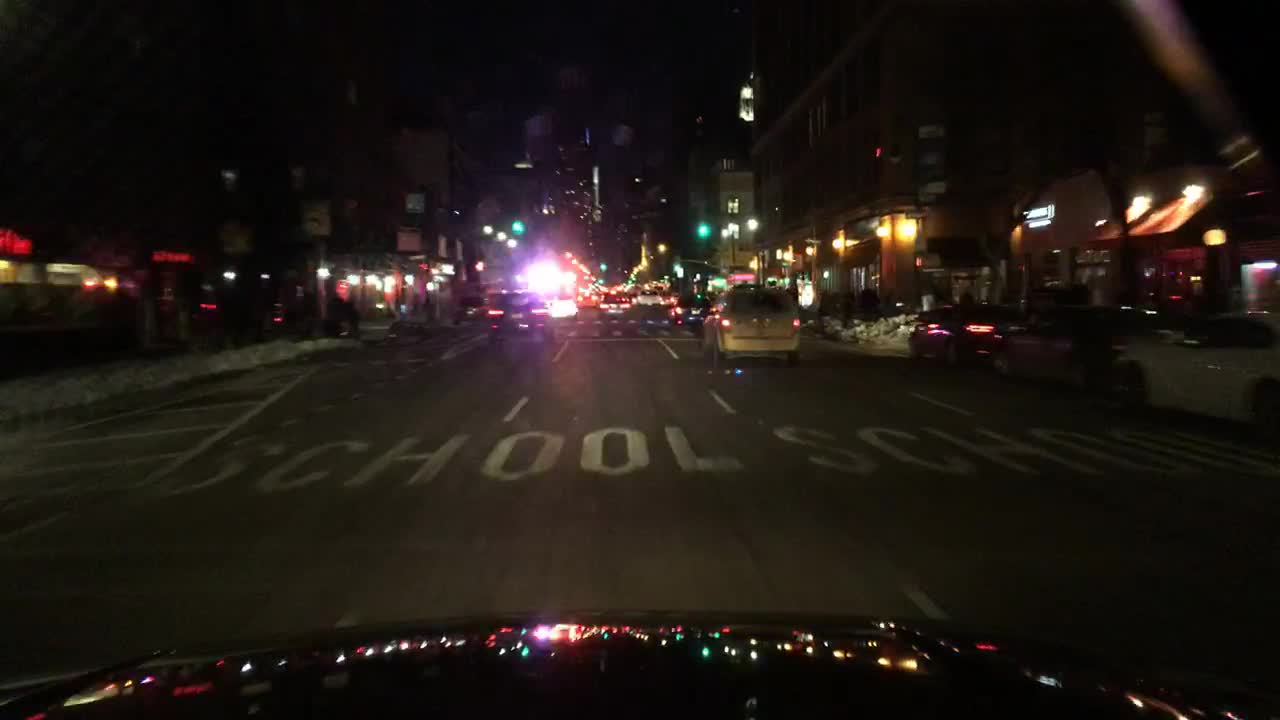car: (1112, 304, 1277, 432), (991, 304, 1141, 386), (701, 285, 802, 366), (907, 306, 1024, 366), (490, 291, 549, 339), (598, 291, 633, 328), (670, 296, 707, 324), (546, 298, 579, 321), (637, 289, 661, 309)
traffic sign: (301, 201, 330, 235), (405, 193, 425, 211), (397, 231, 418, 248)
